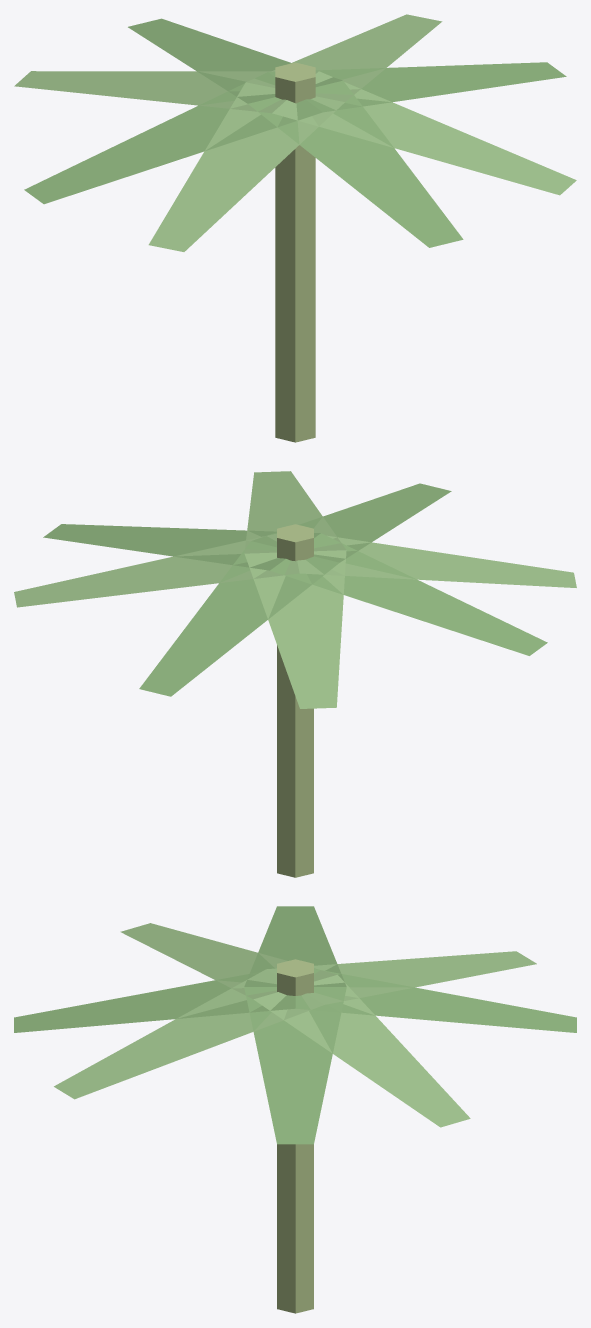
The model's file is veg_plant_banana_01.glb.
3 renders of one model, top to bottom at view 1: azimuth 30°, elevation 25°; view 2: azimuth 150°, elevation 25°; view 3: azimuth 270°, elevation 25°, orthographic. The views are drawn at different scales.
Visible parts, largest first — view 1: stem, leaf_03, leaf_02, leaf_04, leaf_01, leaf_05, leaf_00, leaf_06, leaf_07; view 2: leaf_05, stem, leaf_06, leaf_04, leaf_07, leaf_03, leaf_00, leaf_02, leaf_01; view 3: leaf_00, leaf_07, leaf_01, stem, leaf_06, leaf_02, leaf_05, leaf_03, leaf_04.
Boxes of the visible parts, x1=… form: stem: x1=275, y1=62, x2=315, y2=442; leaf_03: x1=148, y1=82, x2=344, y2=251; leaf_02: x1=248, y1=80, x2=463, y2=247; leaf_04: x1=24, y1=72, x2=322, y2=204; leaf_01: x1=272, y1=71, x2=576, y2=195; leaf_05: x1=14, y1=71, x2=318, y2=113; leaf_00: x1=268, y1=62, x2=566, y2=112; leaf_06: x1=128, y1=18, x2=342, y2=103; leaf_07: x1=246, y1=14, x2=442, y2=101; leaf_05: x1=244, y1=550, x2=346, y2=708; stem: x1=277, y1=524, x2=313, y2=877; leaf_06: x1=139, y1=541, x2=339, y2=696; leaf_04: x1=270, y1=533, x2=547, y2=655; leaf_07: x1=14, y1=533, x2=299, y2=607; leaf_03: x1=297, y1=535, x2=576, y2=587; leaf_00: x1=43, y1=524, x2=320, y2=570; leaf_02: x1=251, y1=483, x2=451, y2=562; leaf_01: x1=244, y1=471, x2=345, y2=553; leaf_00: x1=244, y1=987, x2=346, y2=1144; leaf_07: x1=253, y1=975, x2=470, y2=1127; leaf_01: x1=54, y1=969, x2=324, y2=1099; stem: x1=277, y1=959, x2=313, y2=1313; leaf_06: x1=295, y1=969, x2=576, y2=1032; leaf_02: x1=14, y1=971, x2=295, y2=1032; leaf_05: x1=267, y1=951, x2=536, y2=1004; leaf_03: x1=120, y1=923, x2=336, y2=999; leaf_04: x1=244, y1=906, x2=346, y2=986.
Size of the model in its own units: 3.06 by 2.02 by 3.06.
